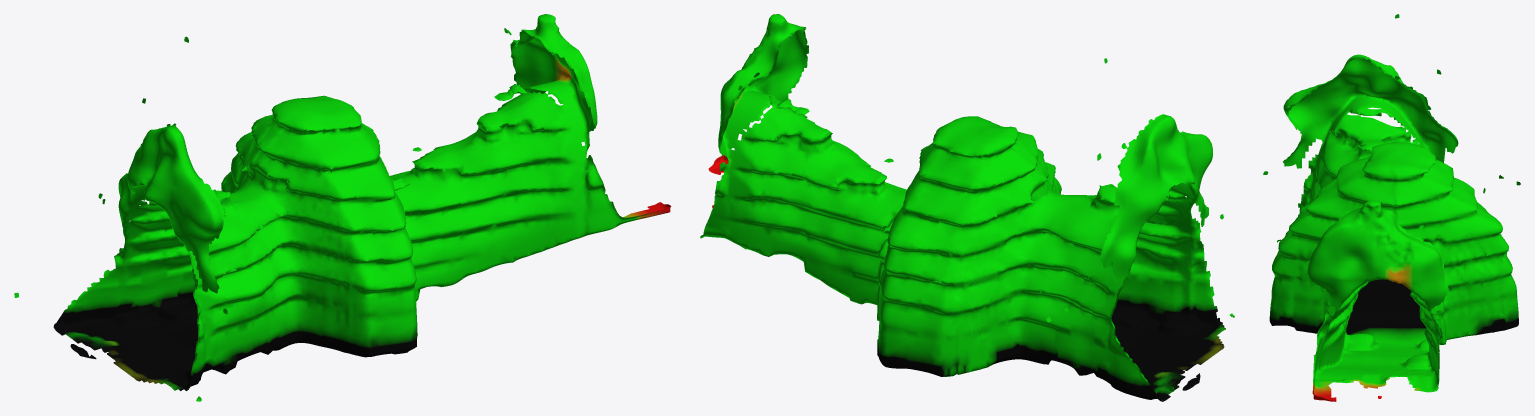
Rendered from cave.glb.
3 views of the same model, side by side, from view 1: azimuth 30°, elevation 25°; view 2: azimuth 150°, elevation 25°; view 3: azimuth 270°, elevation 25° (orthographic). The views are drawn at different scales.
Parts seen in each view (by area): view 1: cave; view 2: cave; view 3: cave.
Part boxes in pixels (x1,y1,x2,y2): cave: (14, 14, 671, 401); cave: (700, 14, 1234, 401); cave: (1263, 14, 1520, 401).
Bounding box in the file's own units: 16.84 × 8.67 × 7.98.
